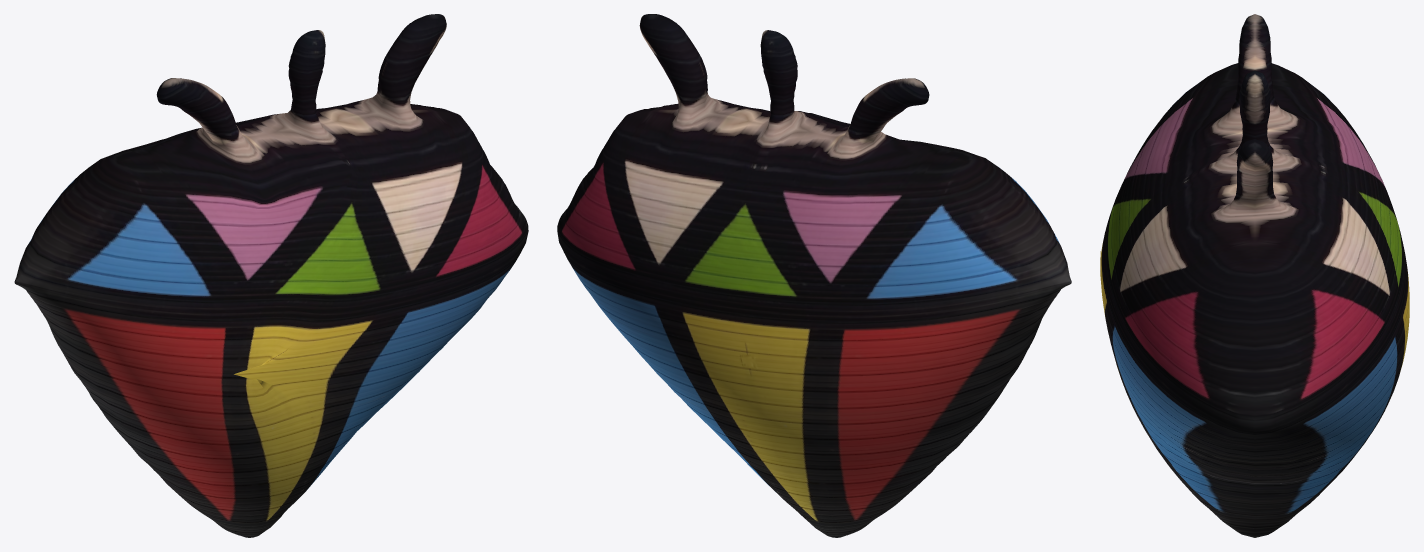
Rendered from Diamond34.glb.
3 renders of one model, left to right at view 1: azimuth 30°, elevation 25°; view 2: azimuth 150°, elevation 25°; view 3: azimuth 270°, elevation 25°, orthographic.
Size of the model in its own units: 4.86 by 4.45 by 2.51.
Materials: 1 (1 with a texture image).
